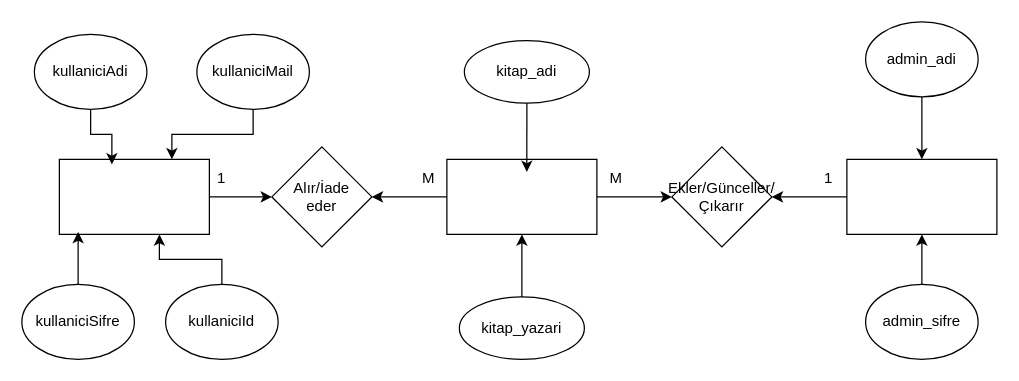
Image size: 1019x381. Some labels were removed from this diagram. Here are the shapes that lost their labels. From the top down, the box of each, then its label:
(58, 158, 209, 234): Üye
(446, 158, 597, 234): Kitap
(846, 158, 997, 234): Admin
